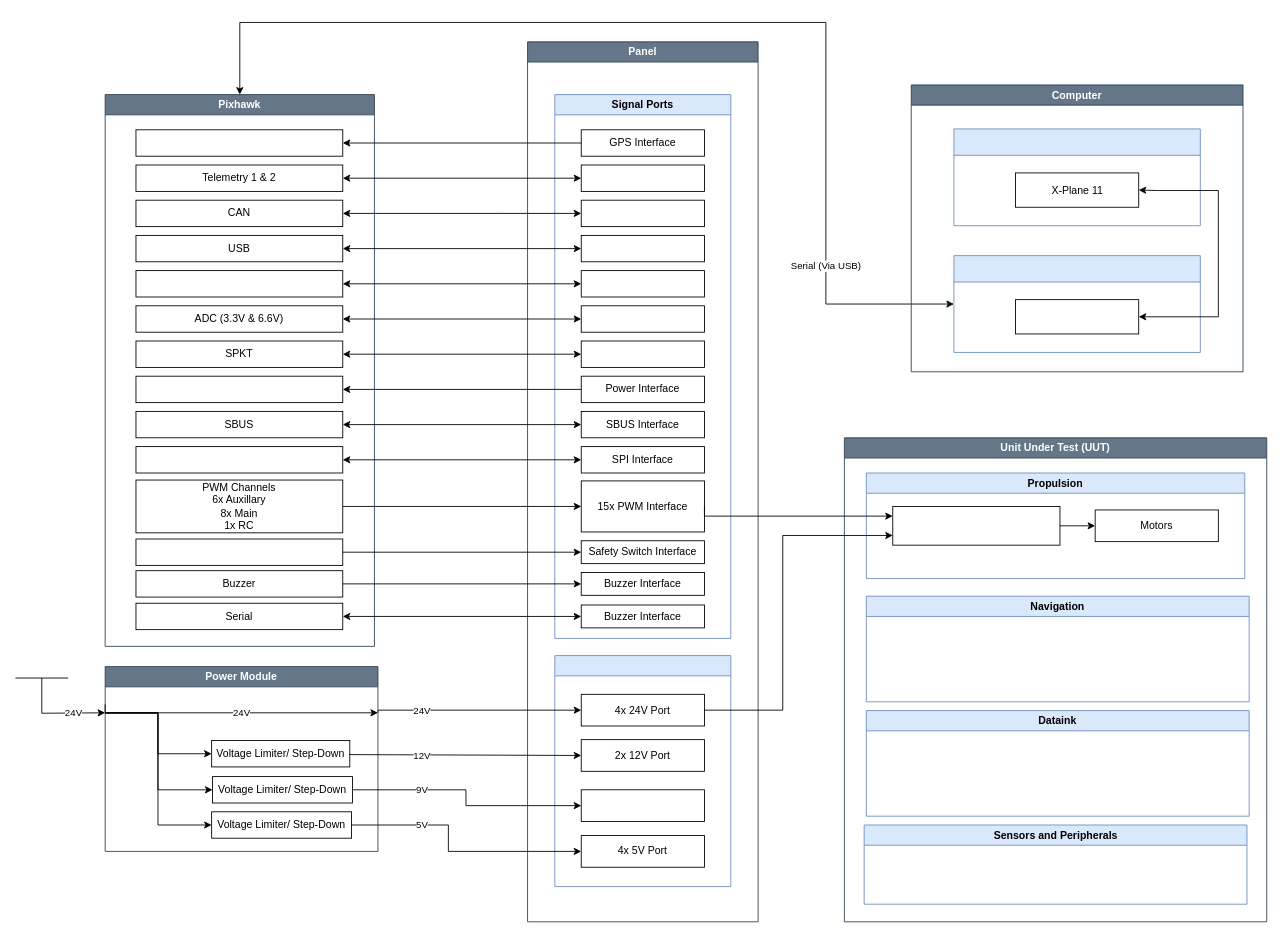
Image size: 1282x937. Some labels were removed from this diagram. The box of each missing label's shape, as (x1, y1, x2, y2) in pixels:
2 x ADC Interface: (580, 305, 704, 332)
2x 9V Port: (580, 789, 704, 821)
2x Telemetry Interface: (580, 164, 704, 191)
CAN Interface: (580, 199, 704, 227)
Electronic Speed Control (ESC): (892, 506, 1060, 545)
GPS: (135, 129, 343, 156)
Ground Control System (GCS): (953, 255, 1200, 352)
I2C: (135, 270, 343, 297)
I2C Interface: (580, 270, 704, 297)
Power: (135, 375, 343, 403)
Power Ports: (554, 655, 731, 887)
QGroundControl: (1015, 299, 1139, 334)
Safety Switch: (135, 538, 343, 565)
Simulator: (953, 128, 1200, 226)
SPI: (135, 446, 343, 473)
SPKT Interface: (580, 340, 704, 367)
USB Interface: (580, 235, 704, 262)
V dd: (15, 677, 68, 713)
